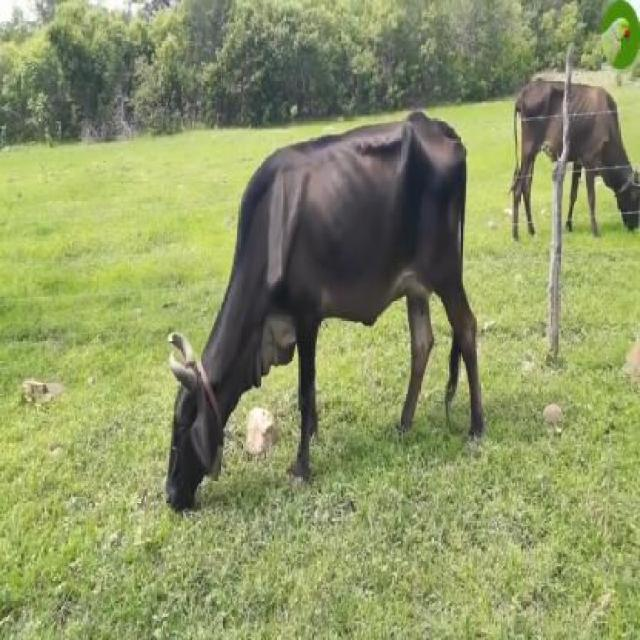Cow: (165, 111, 484, 512), (509, 77, 638, 245)
